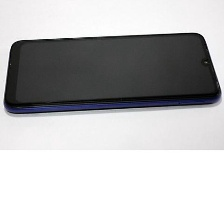phone: (0, 29, 223, 117)
